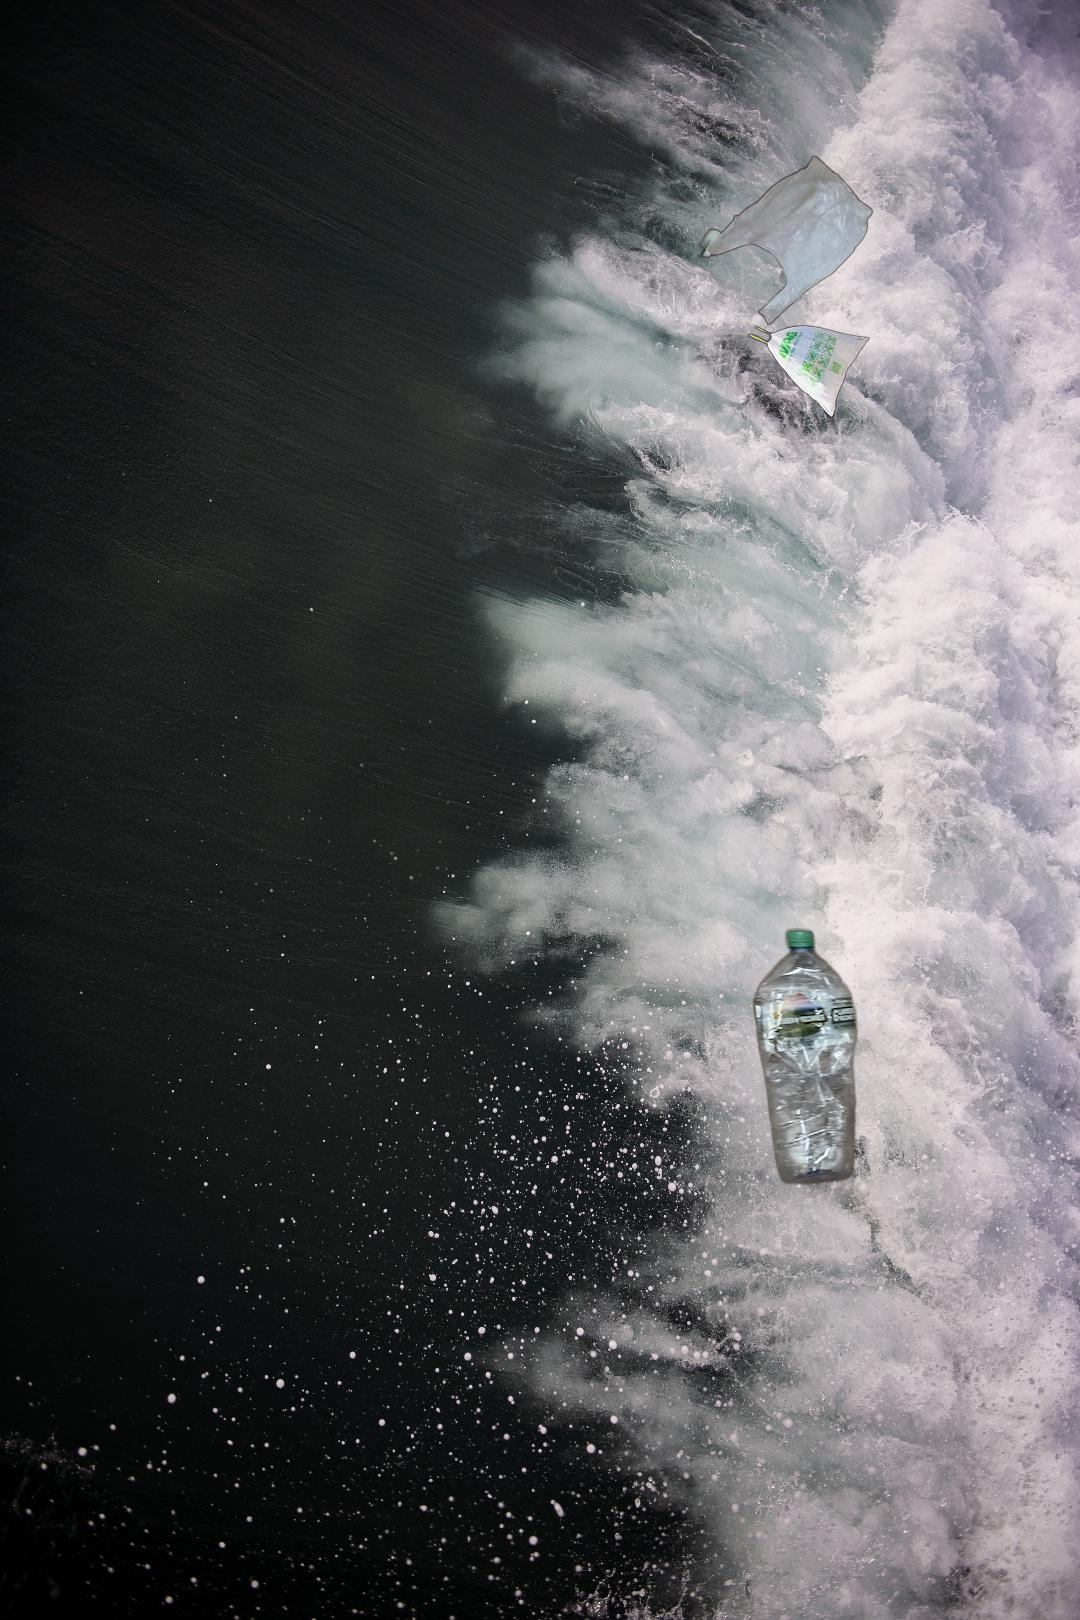plastic-bag: (689, 154, 876, 419)
plastic-bottles: (749, 923, 861, 1190)
